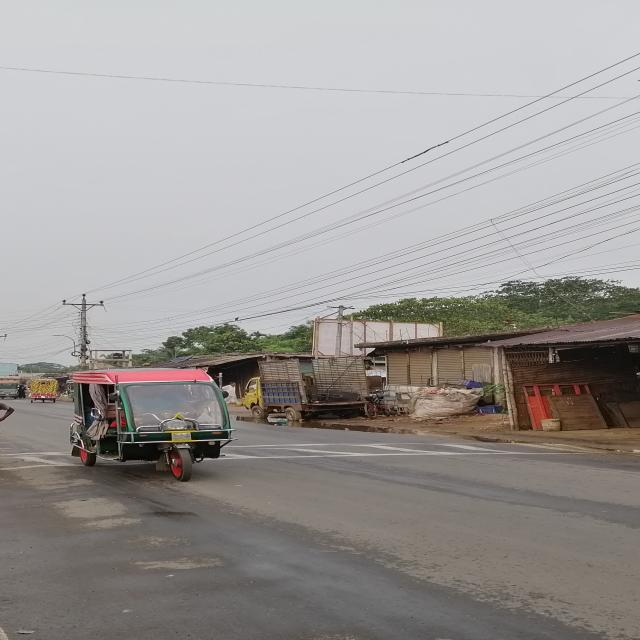Easybike: (61, 367, 235, 481)
